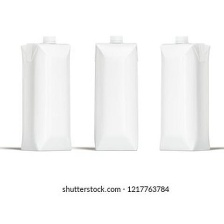carton: (17, 32, 76, 154), (155, 33, 213, 153), (91, 34, 141, 153)
